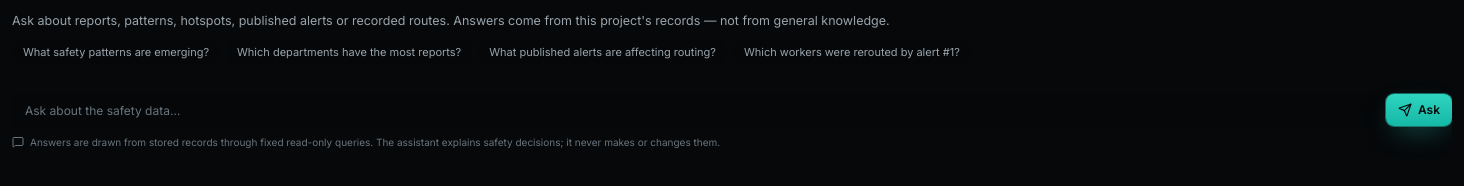
Test: when the assistant is unreachable › reports it without losing the question
Step 1. Type "What patterns are emerging?" into the field named "Ask the safety assistant" → [695, 111], box [12, 94, 1378, 128]
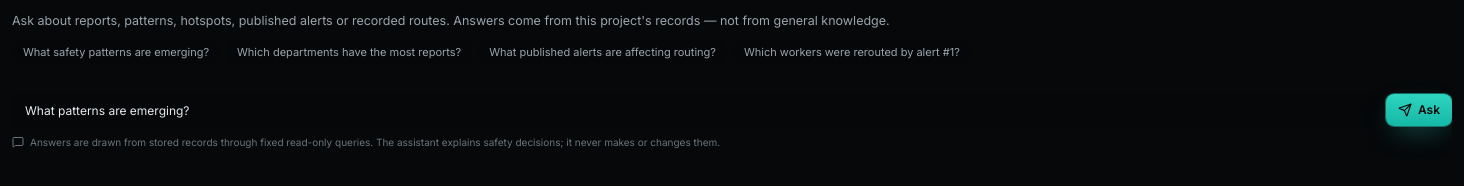
Step 2. Click the button "Ask" → [1419, 110], box [1386, 94, 1452, 126]
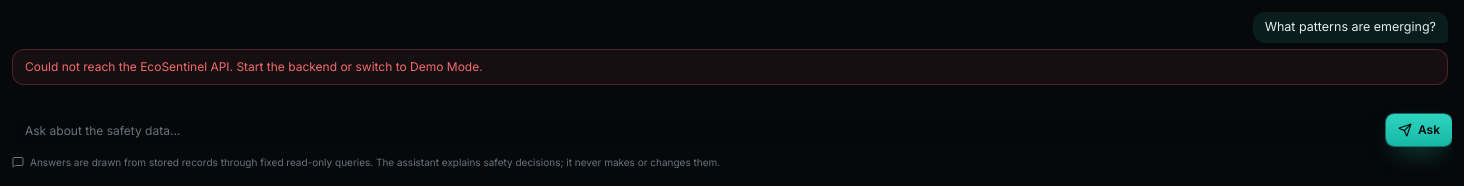
Expected: the text "What patterns are emerging?" is shown, [1253, 12, 1448, 43]
